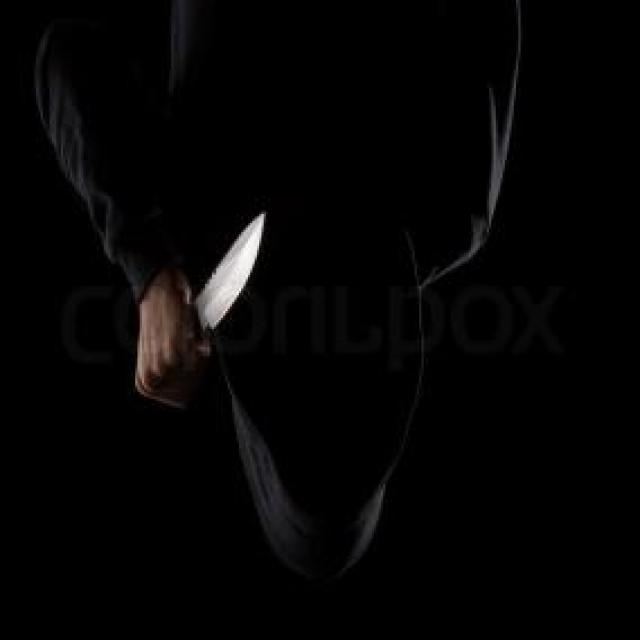knife: (135, 202, 268, 414)
